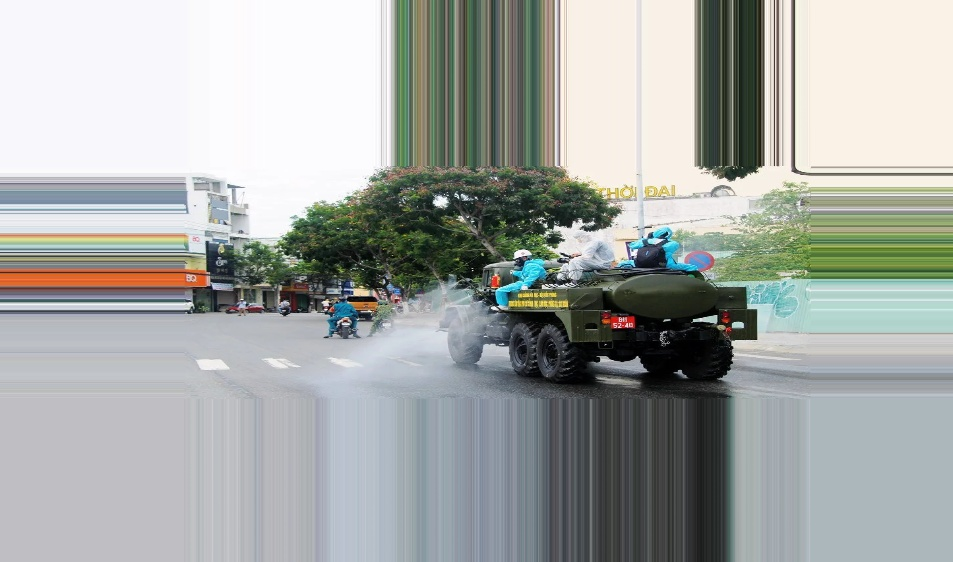plate: (605, 312, 636, 329)
